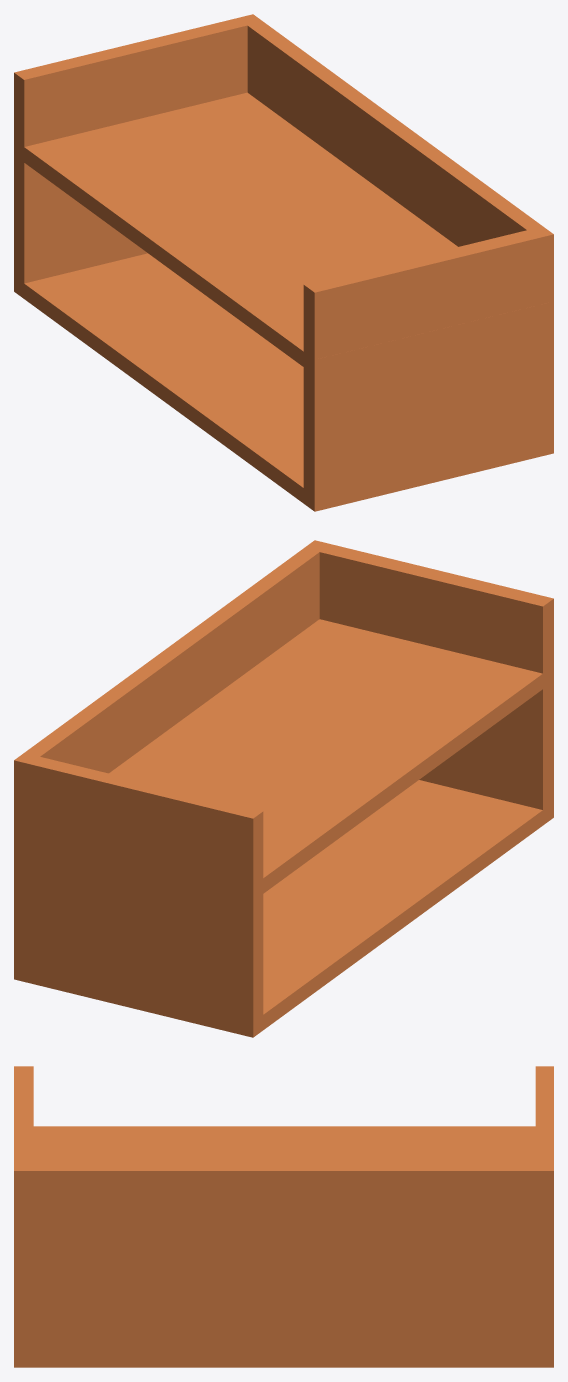
File: suport_masa.fbx
3 renders of one model, top to bottom at view 1: azimuth 30°, elevation 25°; view 2: azimuth 150°, elevation 25°; view 3: azimuth 270°, elevation 25°, orthographic. The views are drawn at different scales.
Parts seen in each view (by area): view 1: Cube; view 2: Cube; view 3: Cube.
Part boxes in pixels (x1,y1,x2,y2): Cube: (14,14,553,511); Cube: (14,540,553,1037); Cube: (14,1066,553,1367).
Bounding box in the file's own units: 118 × 103 × 257.
